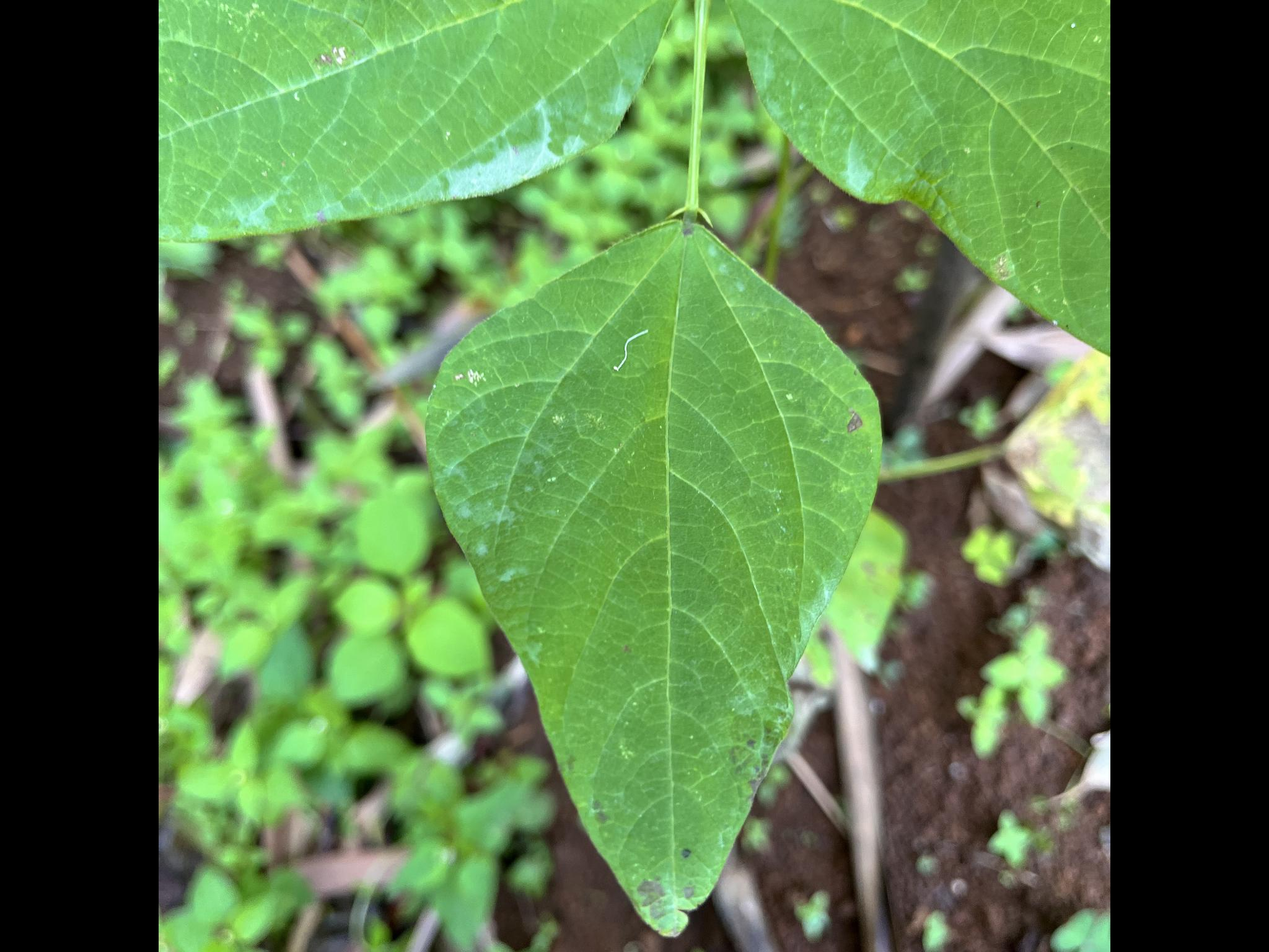embun tepung: (164, 72, 649, 240)
